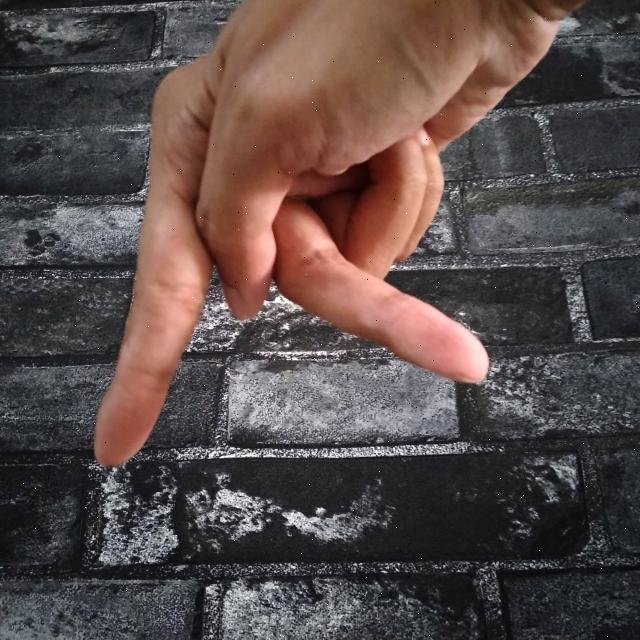P: (62, 0, 594, 478)
